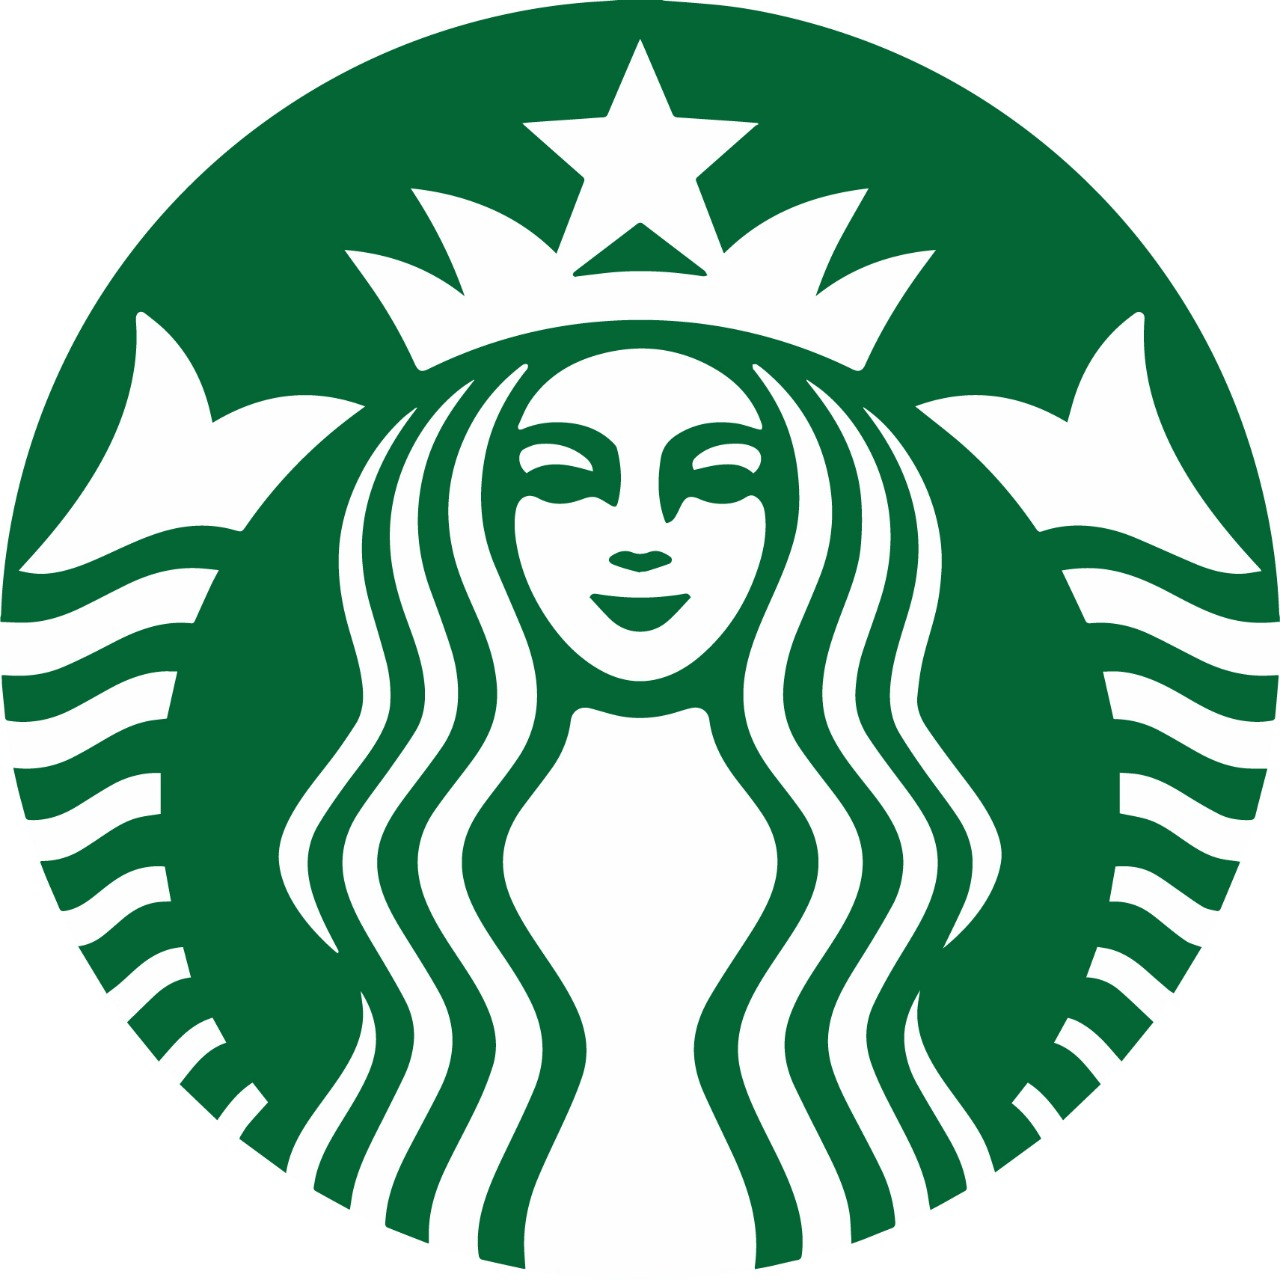starbucks Fake: (1, 9, 1280, 1280)
